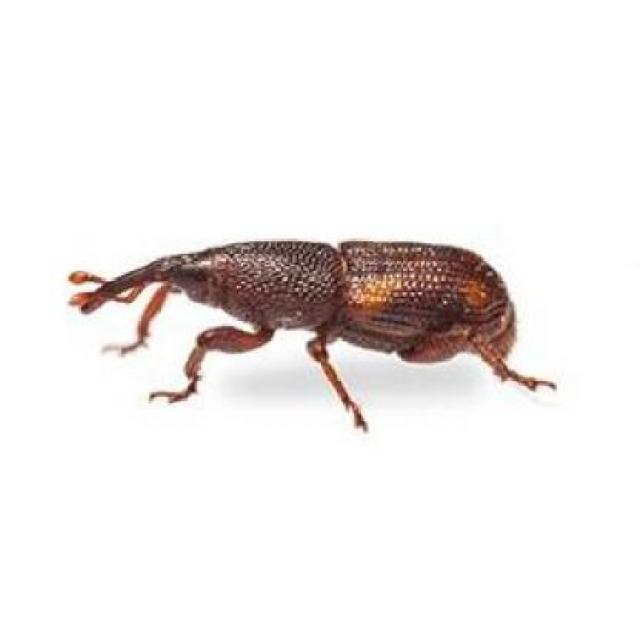rice-bug: (72, 225, 550, 409)
